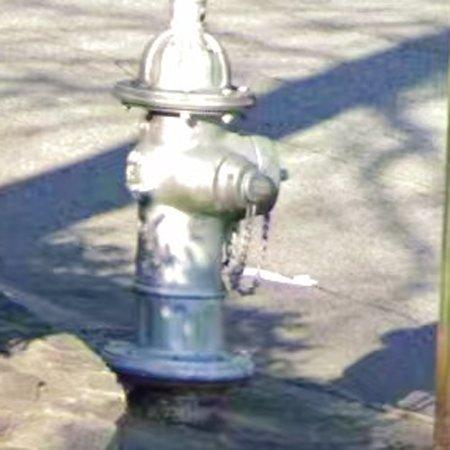a fire hydrant: (105, 0, 288, 383)
